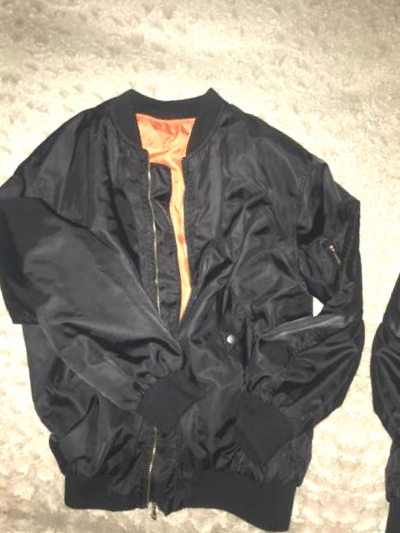Blazer: (0, 55, 399, 533), (342, 121, 400, 533), (0, 518, 321, 533), (0, 0, 7, 486)
